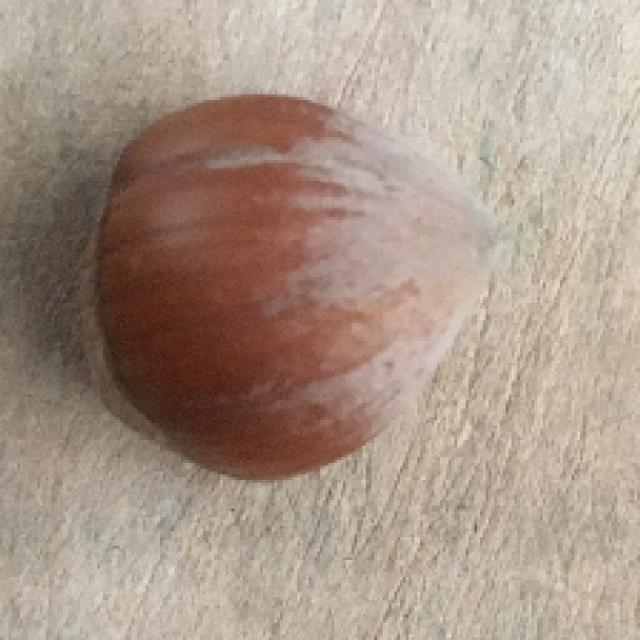qualityHazelnut: (57, 99, 505, 482)
